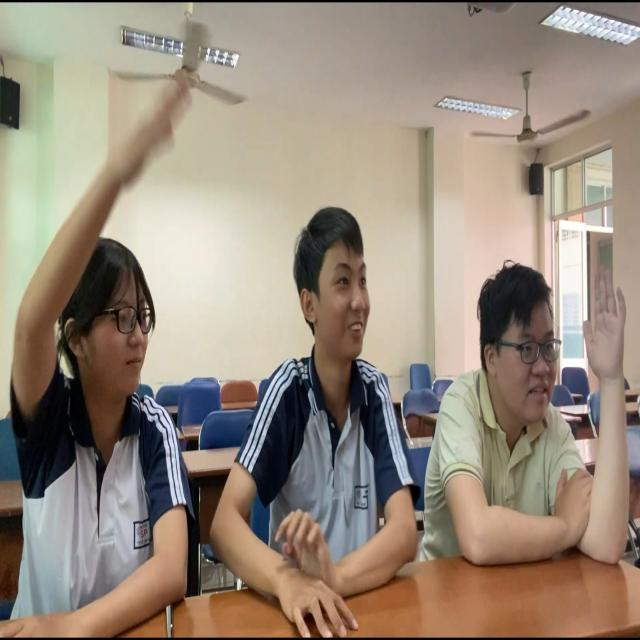raise_hand: (1, 26, 215, 640), (420, 187, 640, 640)
